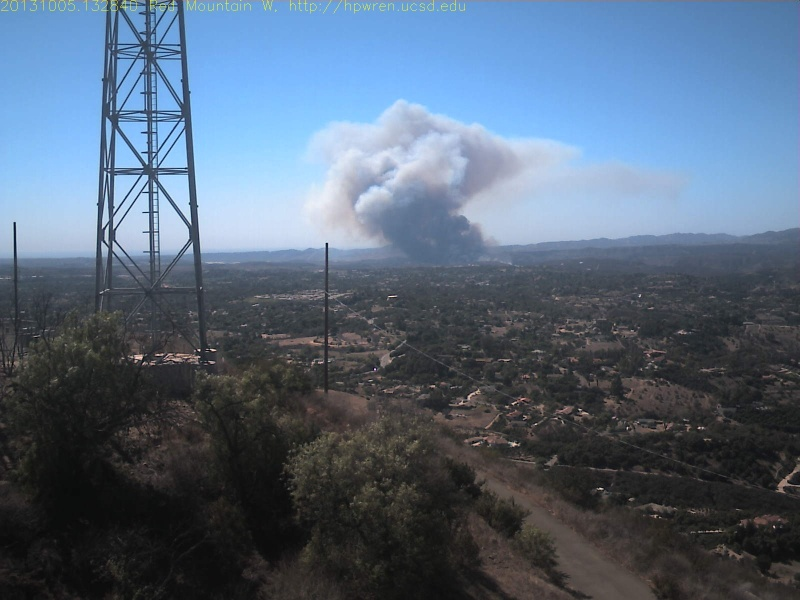smoke: (339, 111, 464, 232)
